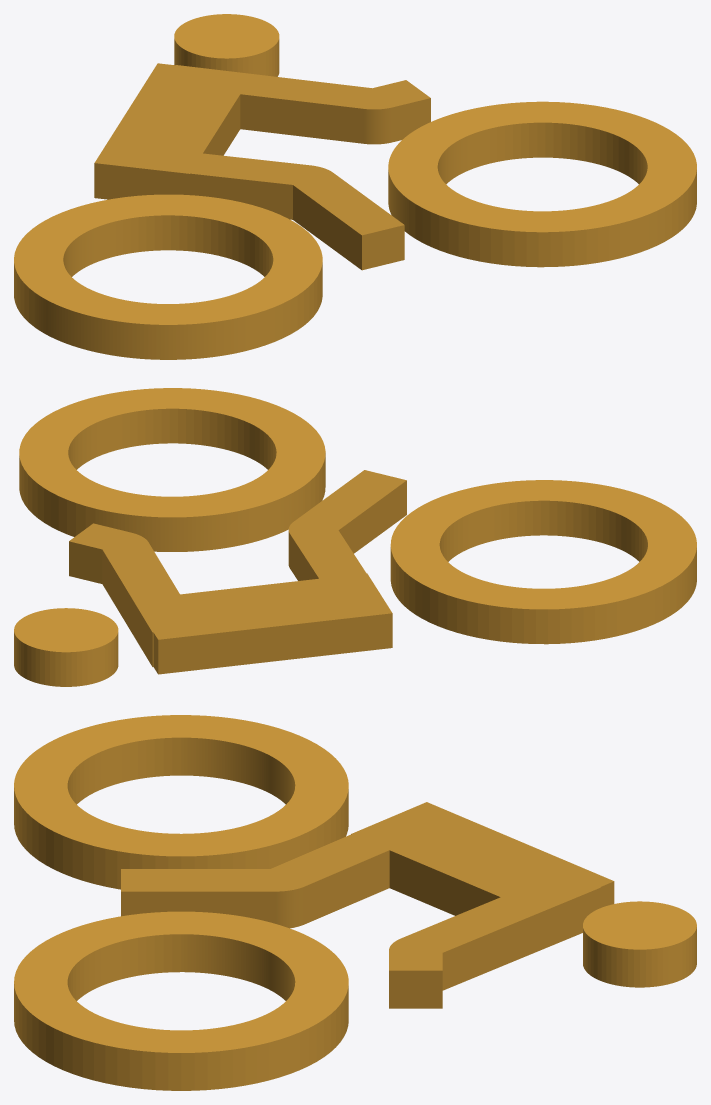
Rendered from cycle.glb.
3 renders of one model, top to bottom at view 1: azimuth 30°, elevation 25°; view 2: azimuth 150°, elevation 25°; view 3: azimuth 270°, elevation 25°, orthographic. The views are drawn at different scales.
Visible parts, largest first — view 1: Path (×3), Circle; view 2: Path (×3), Circle; view 3: Path (×3), Circle.
Part boxes in pixels (box(x1,y1,x2,y2)): Path (×3): box(14, 63, 696, 359); Circle: box(174, 14, 279, 76); Path (×3): box(19, 388, 696, 674); Circle: box(14, 608, 118, 686); Path (×3): box(14, 715, 614, 1090); Circle: box(583, 901, 696, 987).
Size of the model in its own units: 0.0349 by 0.00203 by 0.0296.
